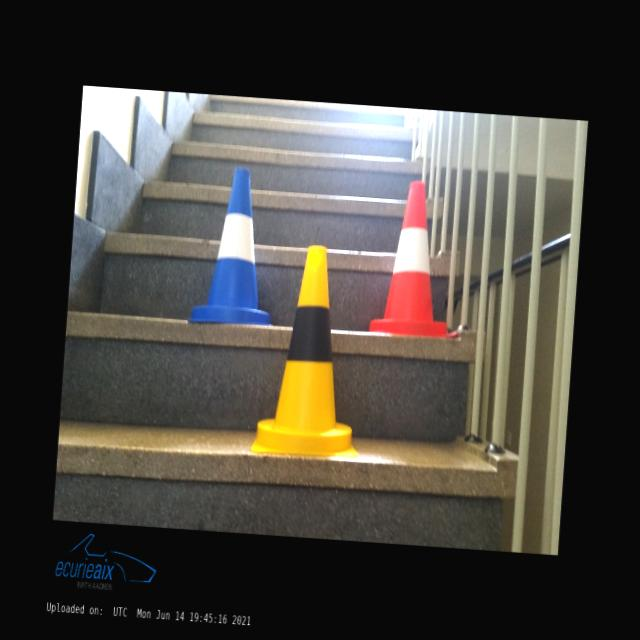blue_cone: (188, 165, 281, 325)
orange_cone: (369, 178, 466, 338)
yellow_cone: (251, 242, 373, 458)
